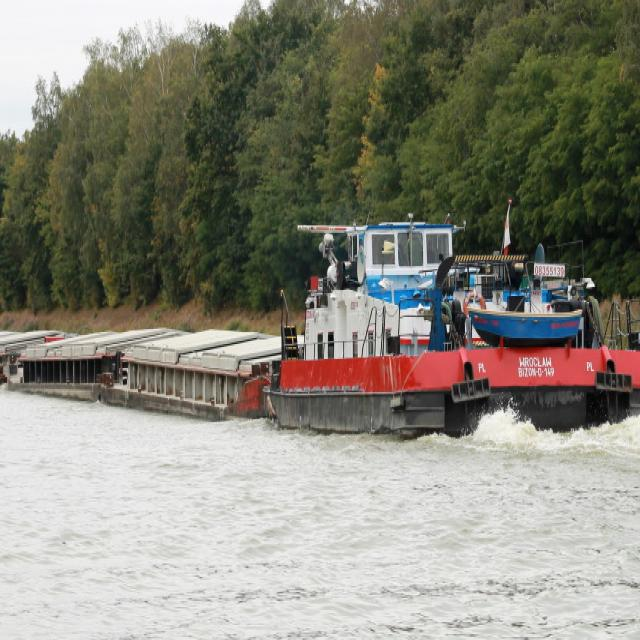tugboat: (263, 191, 640, 457)
